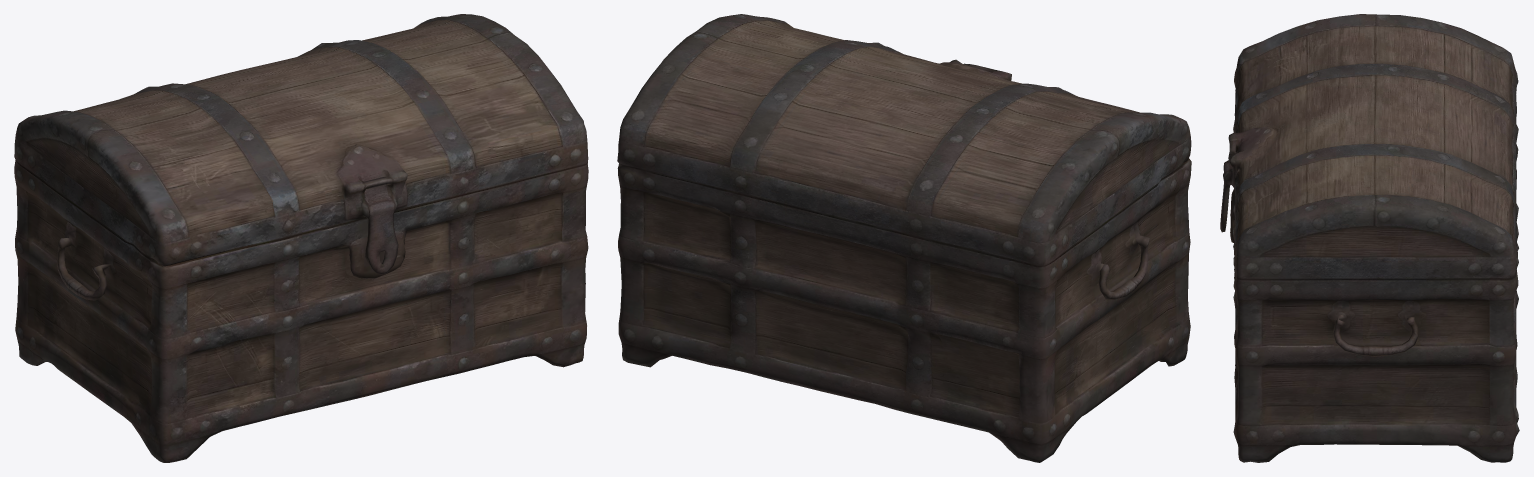
The model's file is coffre_2k.glb.
3 renders of one model, left to right at view 1: azimuth 30°, elevation 25°; view 2: azimuth 150°, elevation 25°; view 3: azimuth 270°, elevation 25°, orthographic. The views are drawn at different scales.
Parts seen in each view (by area): view 1: tripo_node_19f21515; view 2: tripo_node_19f21515; view 3: tripo_node_19f21515.
Part boxes in pixels (x1=…): tripo_node_19f21515: x1=14, y1=14, x2=588, y2=462; tripo_node_19f21515: x1=617, y1=14, x2=1191, y2=462; tripo_node_19f21515: x1=1220, y1=14, x2=1519, y2=462.
Bounding box in the file's own units: 97 × 56.71 × 59.12.
1 material, 1 textured.
